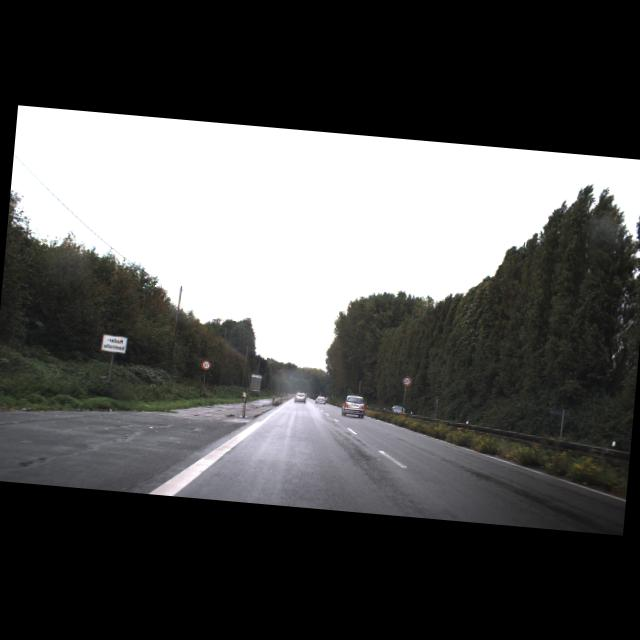prohibitory: (200, 358, 211, 369), (402, 376, 412, 386)
